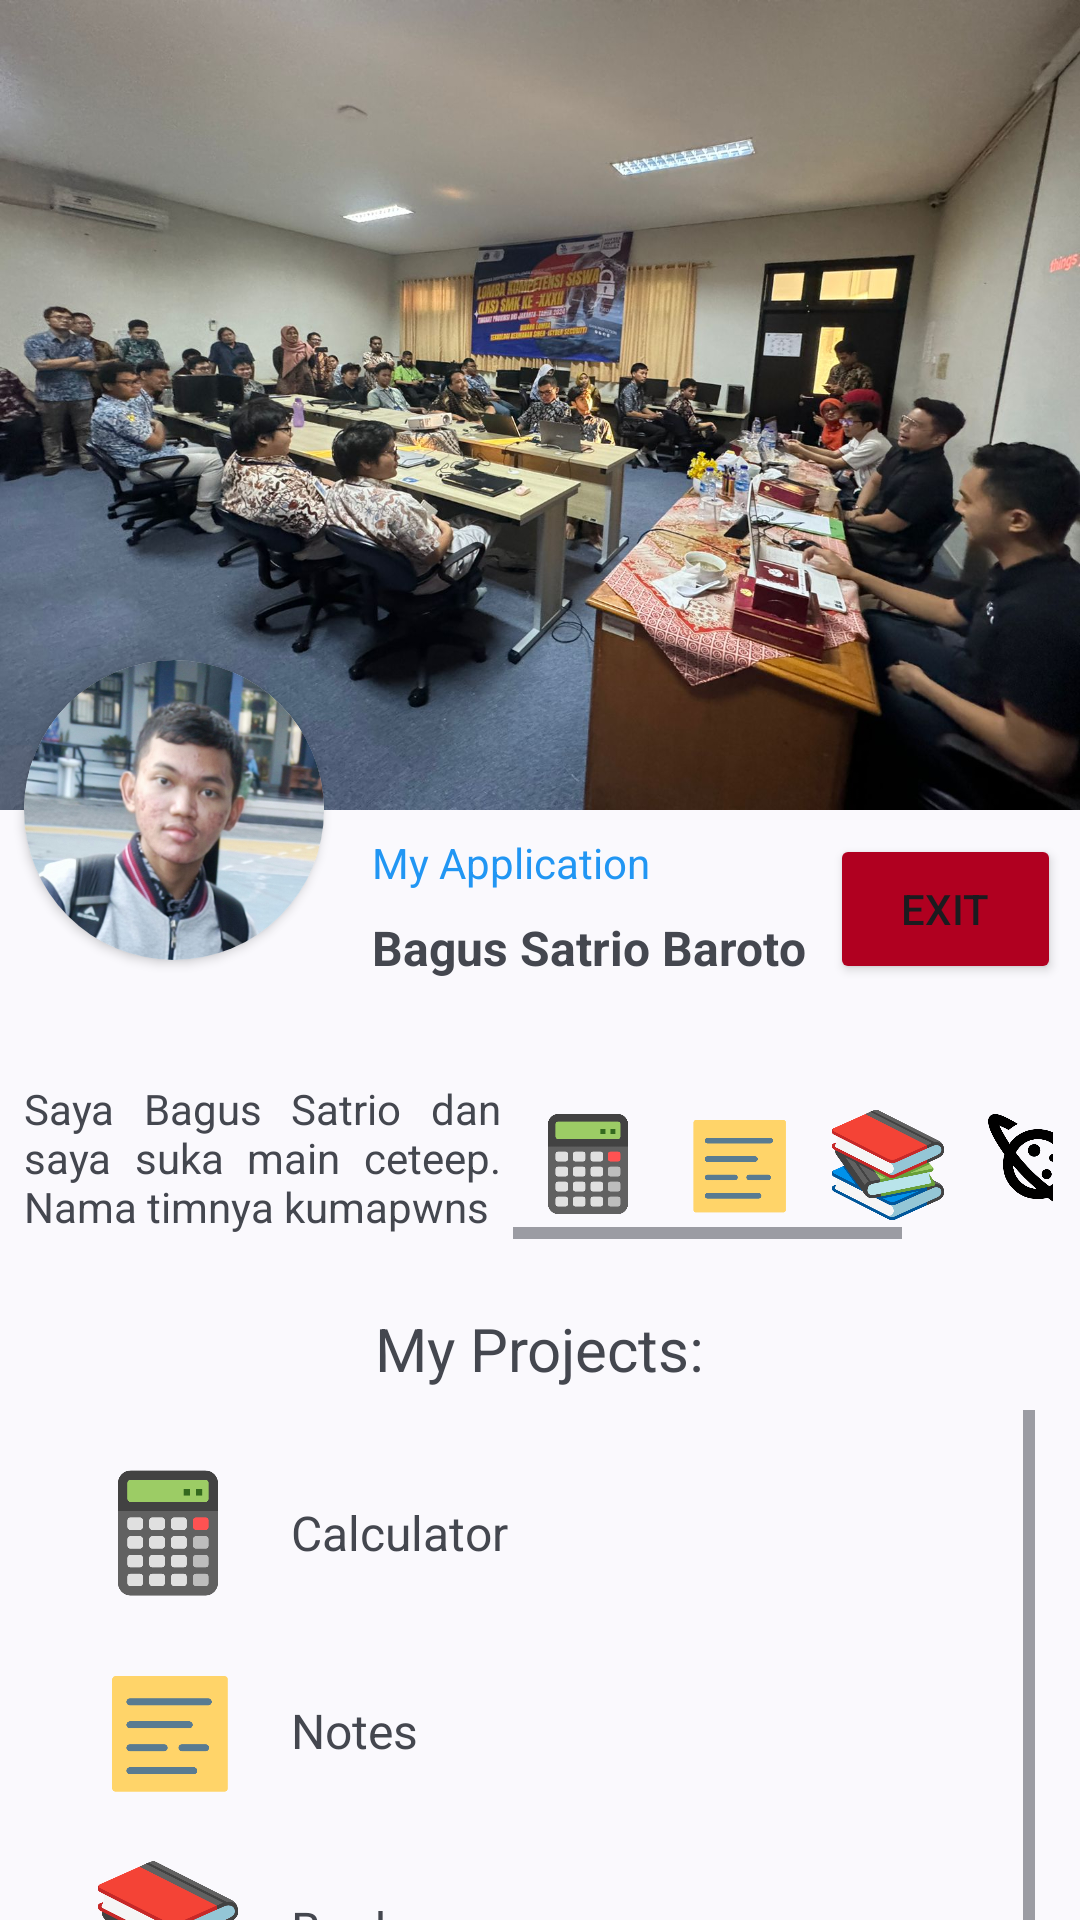

Screen size 1080px x 1920px. Icon name, then its box in pixels as (x1, y1, x2, y2):
Books: (832, 1110, 944, 1220)
